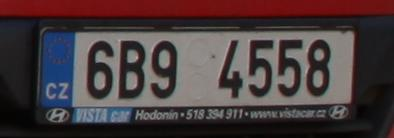4: (220, 40, 243, 98)
5: (278, 39, 300, 98), (250, 40, 272, 97)
6: (87, 40, 113, 98)
8: (307, 40, 330, 94)
9: (152, 40, 177, 98)
B: (118, 41, 145, 99)
